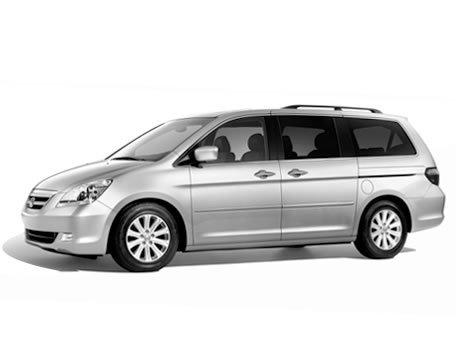car: (23, 104, 447, 276)
